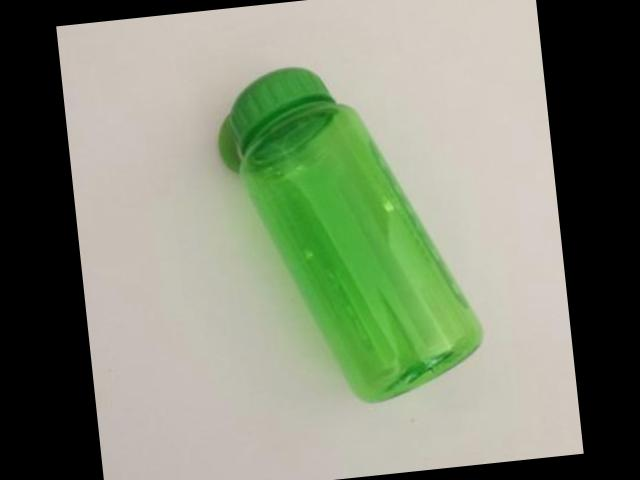plastic: (221, 65, 483, 399)
